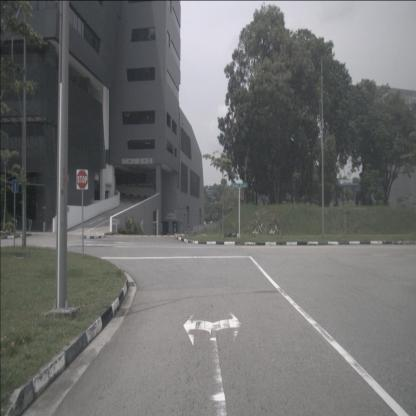vehicle-bicycle: (266, 216, 281, 238), (249, 218, 265, 238), (222, 229, 238, 239)
